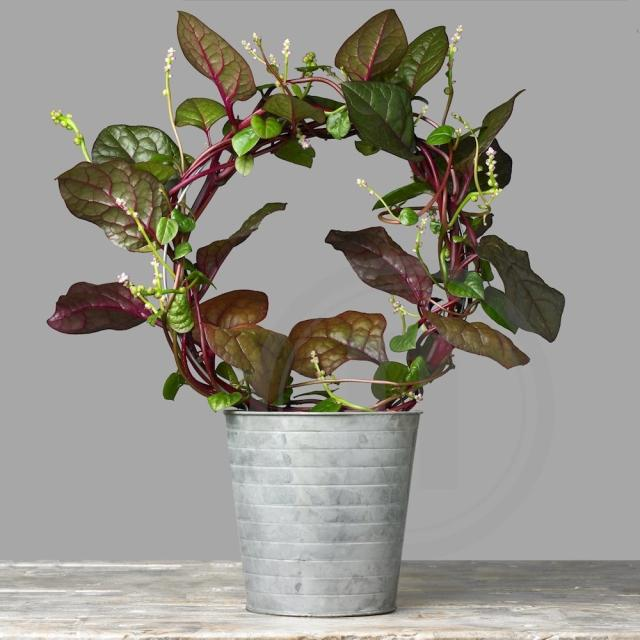Medicinal-Basale: (26, 7, 619, 408)
